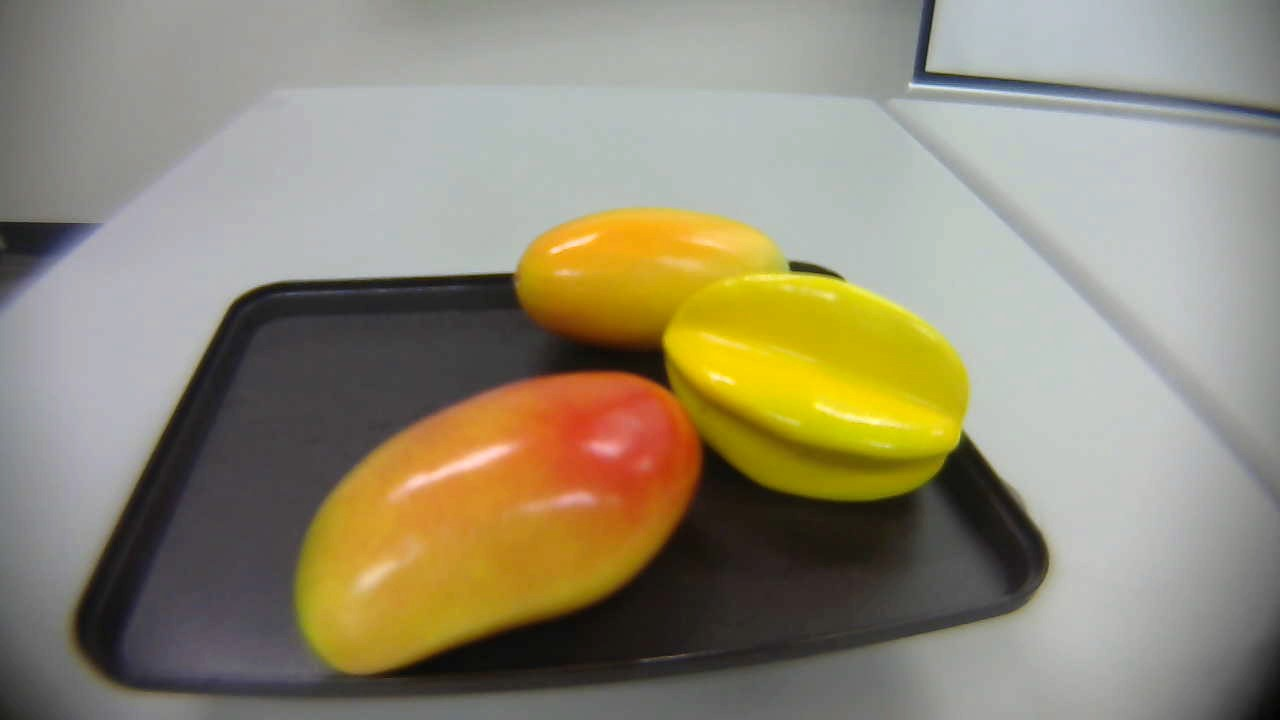red mango: (277, 370, 707, 673)
star fruit: (653, 271, 974, 512)
yellow mango: (507, 209, 805, 347)
